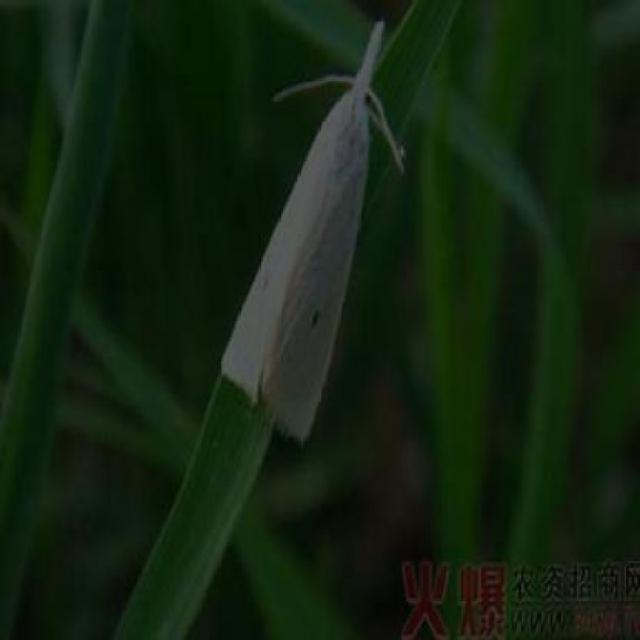stem-borer: (217, 17, 408, 455)
